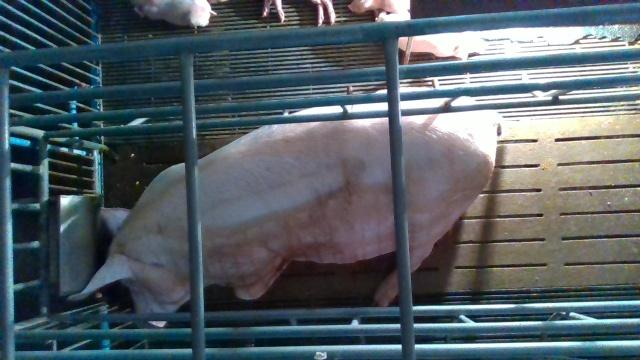piglet: (398, 32, 488, 62), (131, 0, 218, 28), (348, 0, 410, 14)
sow-sleep: (62, 89, 500, 329)
